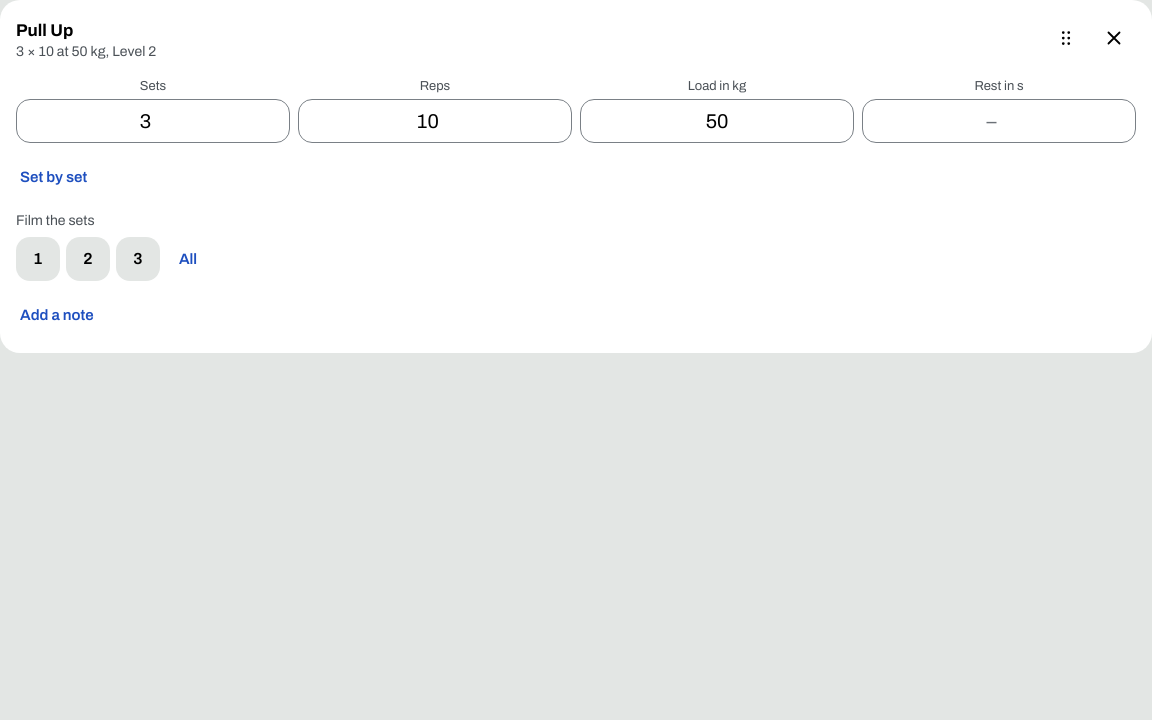
Scenario: ExerciseSlotRow › clicking "Set by set" reveals a per-set table
What coordinates should you click on to do the following:
click the button "Set by set"
I would click on:
 (54, 177)
Its box is [16,155,91,199].
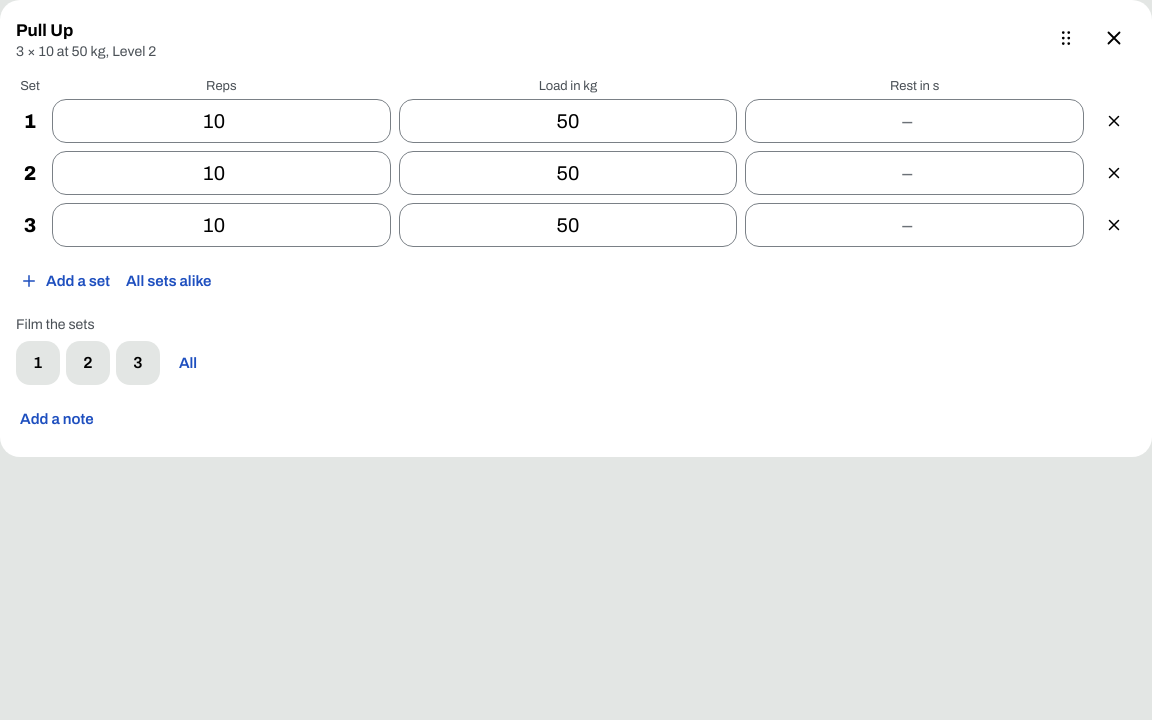
Now the table named "Targets of each set of Pull Up" is shown, box [16,78,1136,251]
Now the column headings read "Set", "Reps", "Load in kg", "Rest in s", in this order, box [16,78,48,95]; [48,78,395,95]; [395,78,741,95]; [741,78,1088,95]
Now the number field named "Set 1, reps" holds "10", box [52,99,391,143]
